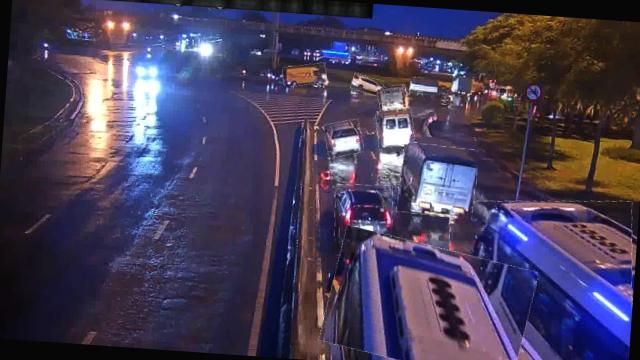Bus: (440, 191, 638, 360), (321, 231, 535, 360), (374, 106, 416, 148)
Car: (333, 182, 395, 244), (322, 117, 363, 158), (351, 74, 384, 94)
Truck: (396, 142, 478, 218), (282, 62, 327, 87), (376, 83, 408, 111)
